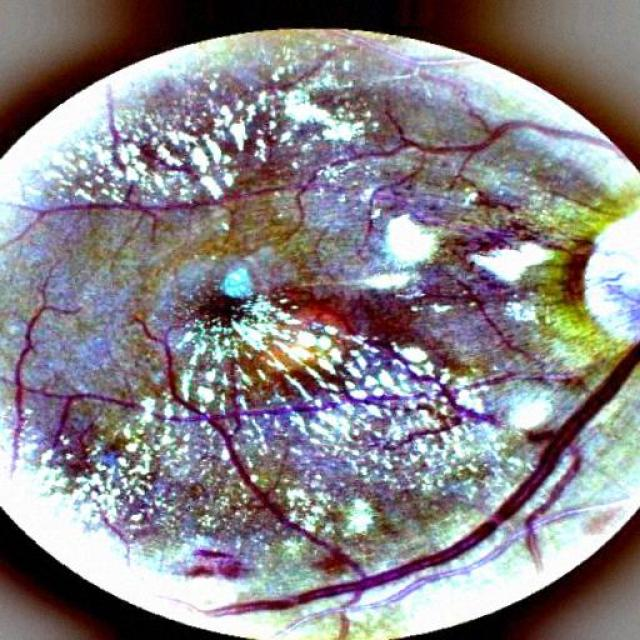Macula: (174, 273, 263, 362)
Nerves: (196, 349, 633, 618), (413, 116, 611, 158)
Optic Disk: (567, 208, 637, 343)
